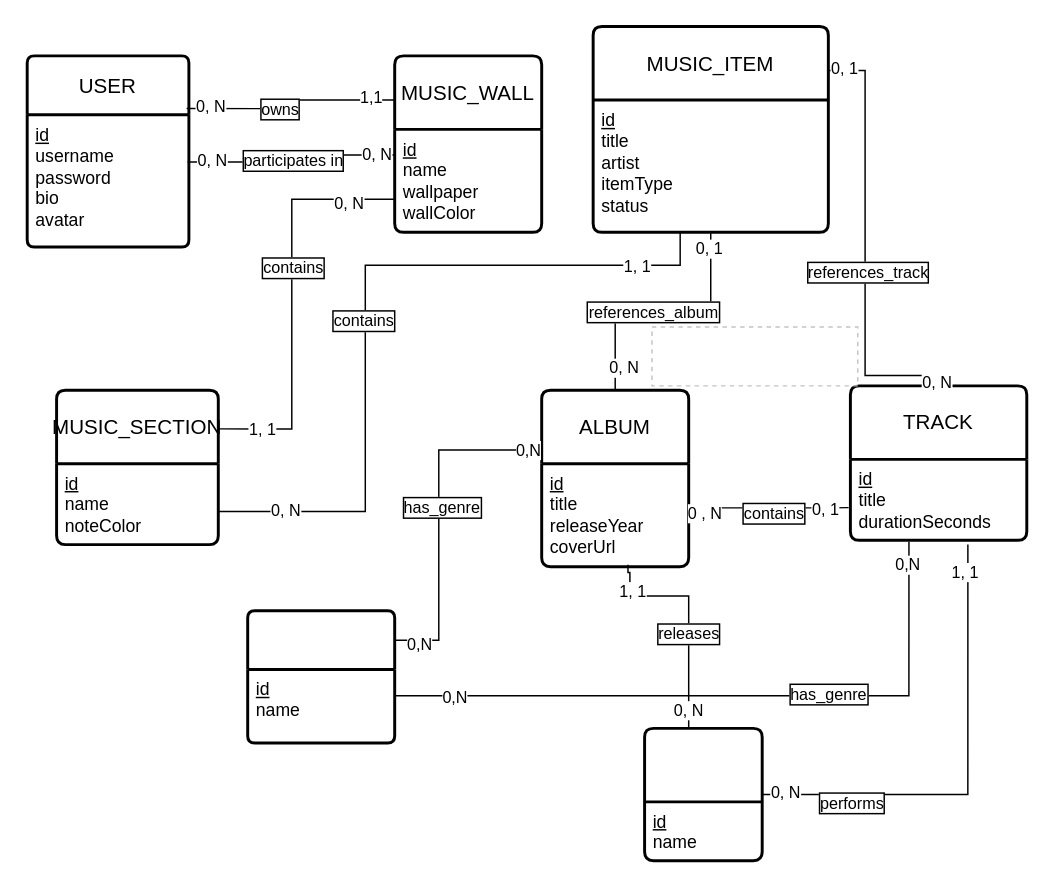
This 1053x888 diagram has some shape labels left out. The shapes that lost their labels are listed below. From the top down, each one's box as (x1, y1, x2, y2) in pixels, then its label:
(650, 326, 858, 386): XOR A MUSIC_ITEM references exactly one TRACK or one ALBUM.
(245, 609, 395, 744): GENRE
(642, 726, 763, 861): ARTIST
